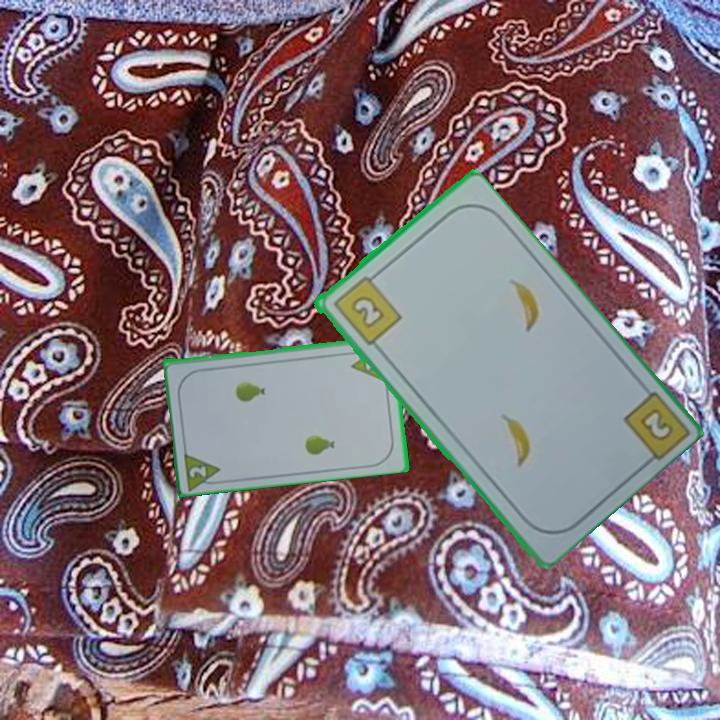2b: (329, 269, 404, 348), (636, 404, 676, 445)
2p: (180, 447, 226, 491)
